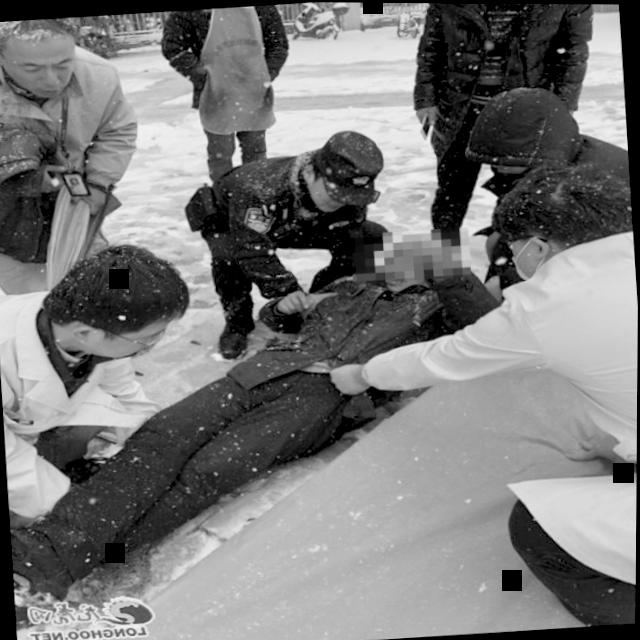Fall-Detected: (0, 219, 469, 634)
